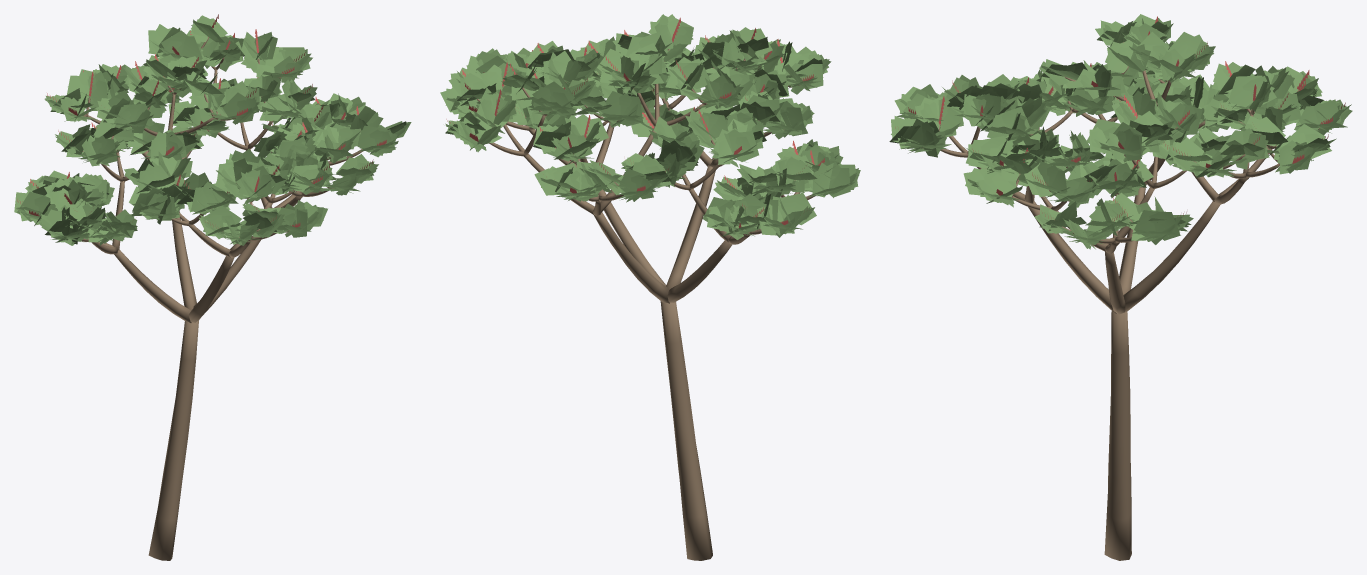
Rendered from tree-erythrina.glb.
The picture shows the model from 3 angles, left to right: view 1: azimuth 30°, elevation 25°; view 2: azimuth 150°, elevation 25°; view 3: azimuth 270°, elevation 25°; orthographic projection. The views are drawn at different scales.
Visible parts, largest first — view 1: Foliage, Wood; view 2: Foliage, Wood; view 3: Foliage, Wood.
Part boxes in pixels (x1,y1,x2,y2): Foliage: [14, 14, 411, 245]; Wood: [82, 37, 373, 560]; Foliage: [440, 14, 860, 239]; Wood: [477, 41, 815, 560]; Foliage: [889, 14, 1352, 249]; Wood: [922, 42, 1319, 560].
Bounding box in the file's own units: 4.46 × 5.57 × 4.36.
